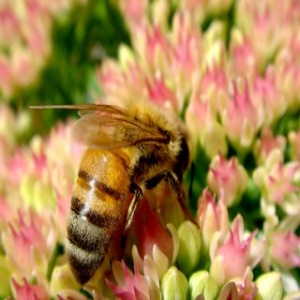bee: (26, 99, 202, 280)
